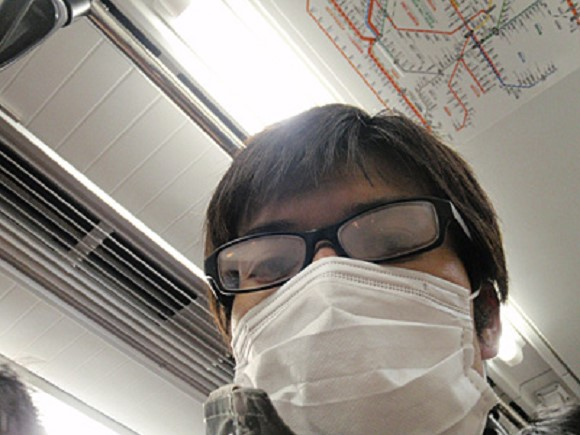face_with_mask: (188, 128, 506, 435)
